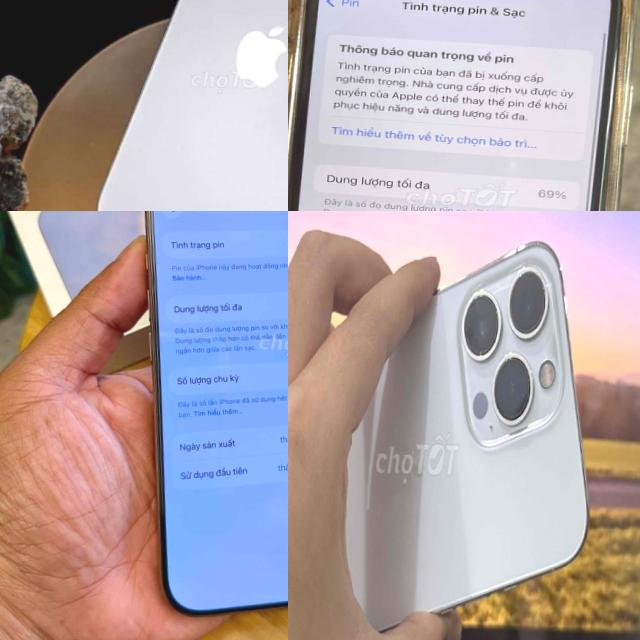gen_12_13: (319, 230, 601, 640)
gen_15: (80, 0, 288, 211)
gen_16: (117, 211, 288, 626)
gen_x_xs: (288, 0, 637, 211)
